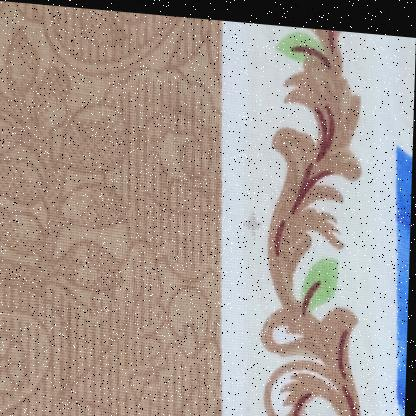spot: (242, 199, 269, 230)
